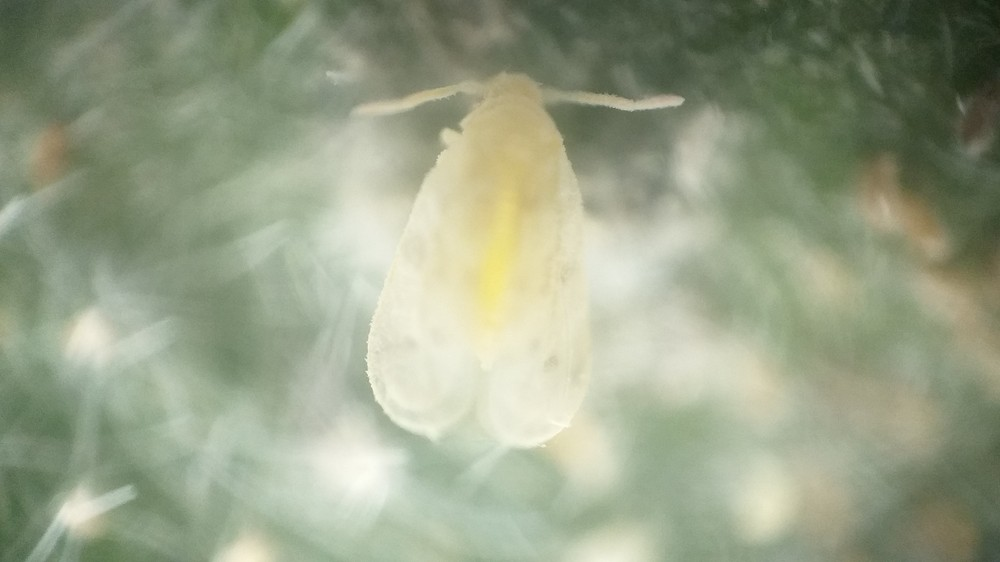Mosca Blanca: (310, 62, 698, 474)
